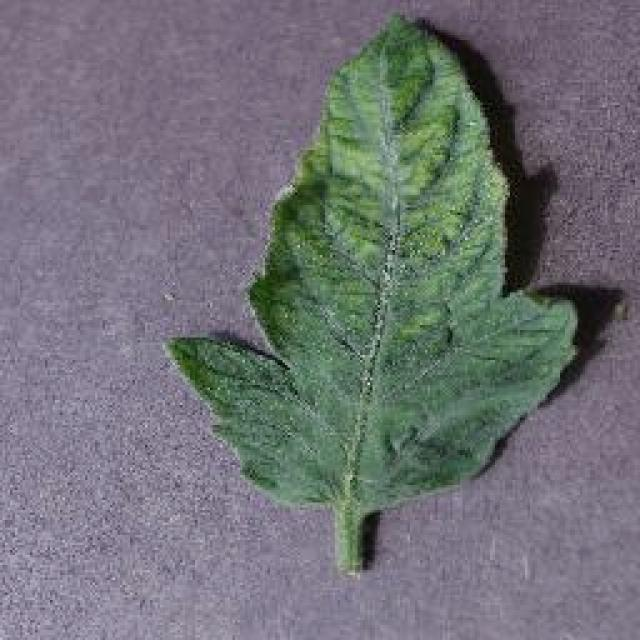Tomato mosaic virus leaf: (162, 11, 578, 514)
